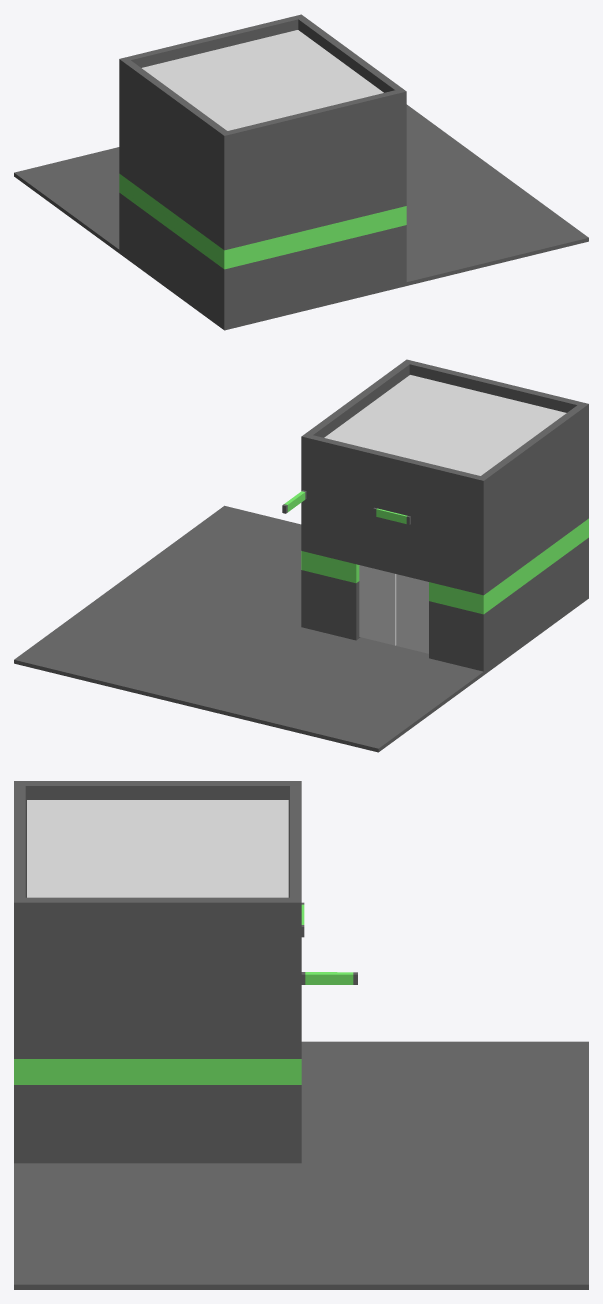
Rendered from elevatorTile.fbx.
The picture shows the model from 3 angles, top to bottom: view 1: azimuth 30°, elevation 25°; view 2: azimuth 150°, elevation 25°; view 3: azimuth 270°, elevation 25°; orthographic projection. The views are drawn at different scales.
Parts seen in each view (by area): view 1: elevator_shaft, elevator_floor, elevator; view 2: elevator_shaft, elevator_floor, elevator, el_door_R, el_door_L; view 3: elevator_floor, elevator_shaft, elevator.
Boxes of the visible parts, <box> form: elevator_shaft: <box>119,14,406,326</box>; elevator_floor: <box>14,104,588,330</box>; elevator: <box>142,30,383,130</box>; elevator_shaft: <box>282,359,588,671</box>; elevator_floor: <box>14,505,588,752</box>; elevator: <box>324,375,566,475</box>; el_door_R: <box>359,565,396,645</box>; el_door_L: <box>396,574,428,653</box>; elevator_floor: <box>14,1041,588,1289</box>; elevator_shaft: <box>14,781,357,1163</box>; elevator: <box>27,800,288,897</box>.
Size of the model in its own units: 1000 by 510 by 1000.
